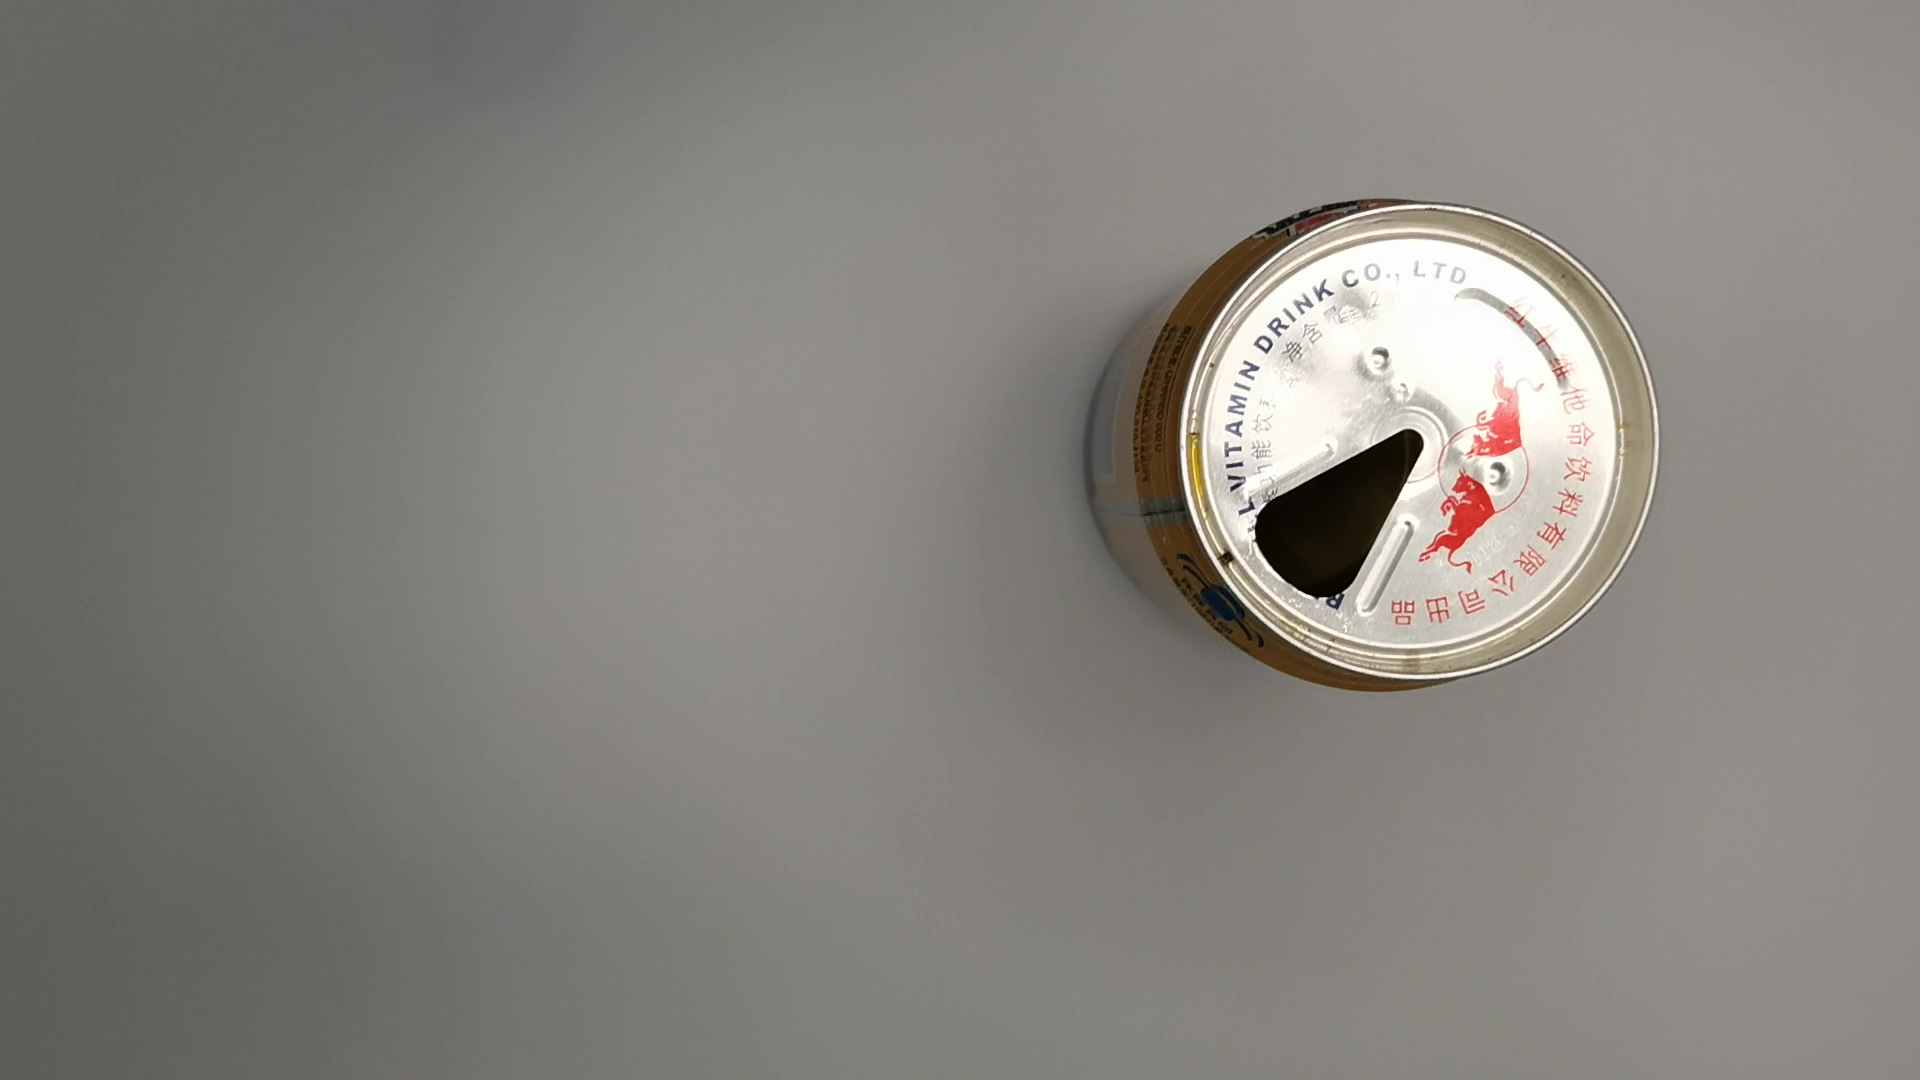can: (1071, 191, 1664, 704)
